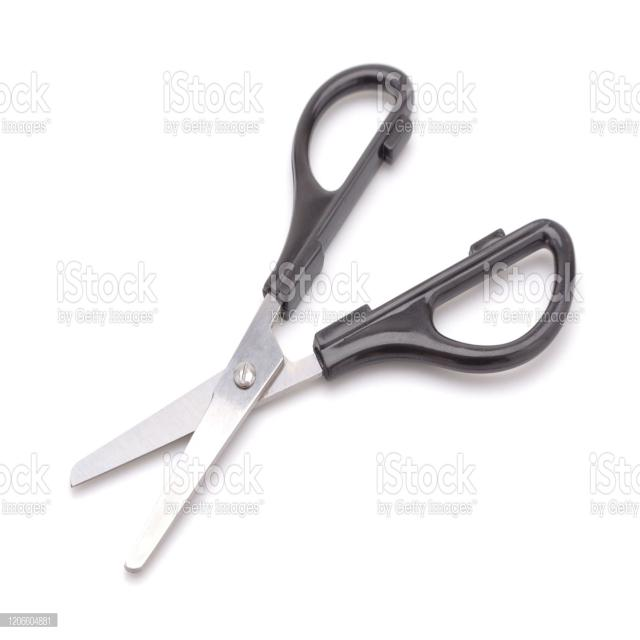Gunting: (63, 50, 579, 578)
